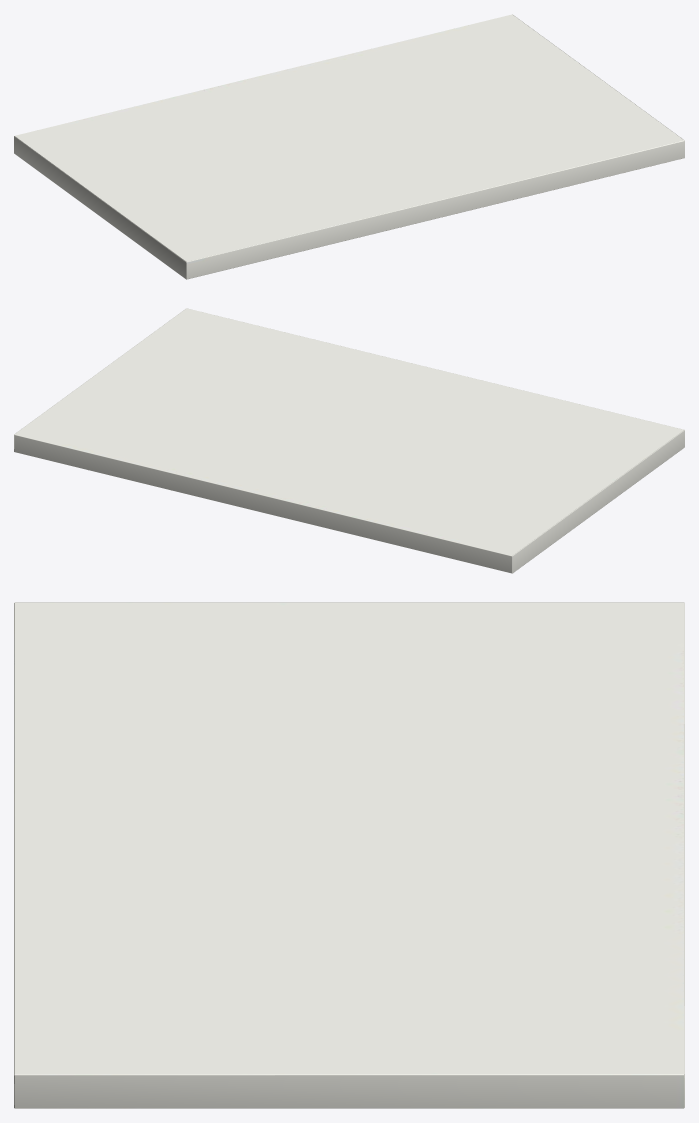
The model's file is LINNMON_00251135.glb.
3 renders of one model, top to bottom at view 1: azimuth 30°, elevation 25°; view 2: azimuth 150°, elevation 25°; view 3: azimuth 270°, elevation 25°, orthographic. The views are drawn at different scales.
Visible parts, largest first — view 1: model; view 2: model; view 3: model.
Part boxes in pixels (x1,y1,x2,y2): model: (14,14,684,279); model: (14,308,684,573); model: (14,602,684,1108).
Size of the model in its own units: 1 by 0.0341 by 0.6.
Materials: 1 (1 with a texture image).
